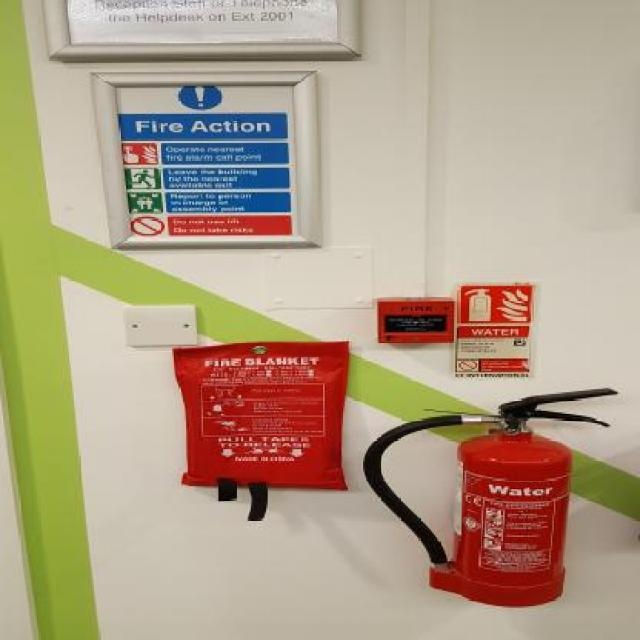fire extinguisher: (363, 393, 609, 604)
